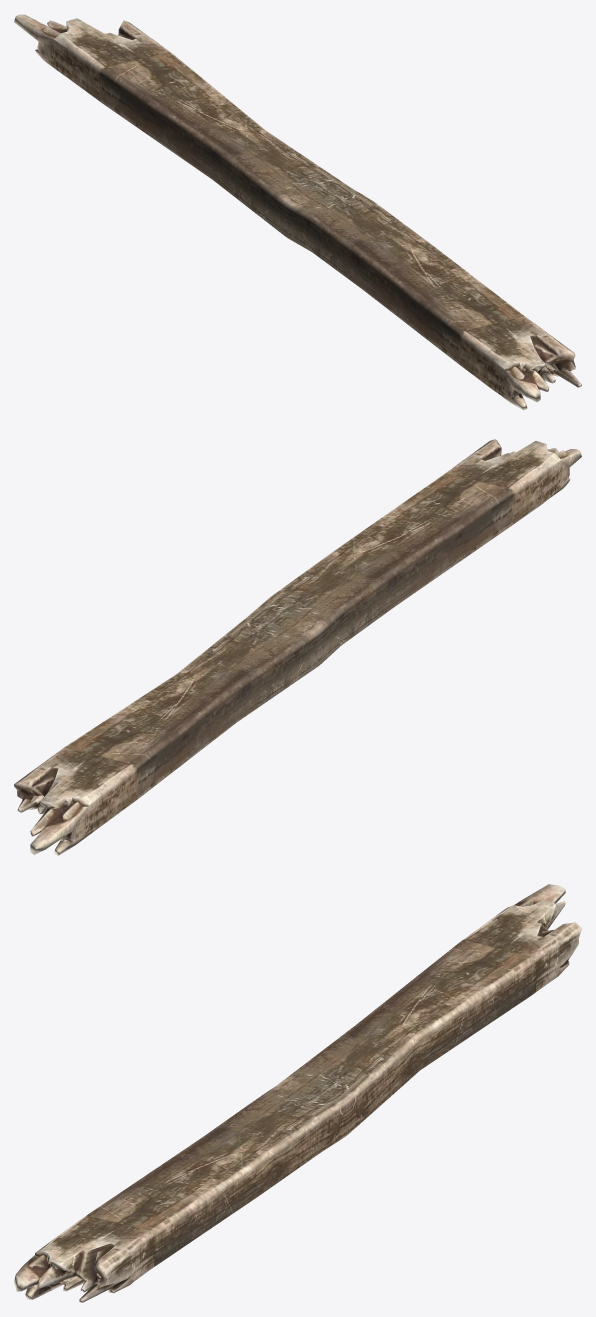
The picture shows the model from 3 angles, top to bottom: view 1: azimuth 30°, elevation 25°; view 2: azimuth 150°, elevation 25°; view 3: azimuth 330°, elevation 25°; orthographic projection. The views are drawn at different scales.
Visible parts, largest first — view 1: SM_SaradominTemple_Floor_Plank_01_v3_LOD0; view 2: SM_SaradominTemple_Floor_Plank_01_v3_LOD0; view 3: SM_SaradominTemple_Floor_Plank_01_v3_LOD0.
Boxes of the visible parts, x1,y1,x2,y2 form: SM_SaradominTemple_Floor_Plank_01_v3_LOD0: (14, 14, 581, 410); SM_SaradominTemple_Floor_Plank_01_v3_LOD0: (14, 439, 581, 855); SM_SaradominTemple_Floor_Plank_01_v3_LOD0: (14, 884, 581, 1302).
Bounding box in the file's own units: 0.2497 × 0.1303 × 3.
Materials: 1 (1 with a texture image).
